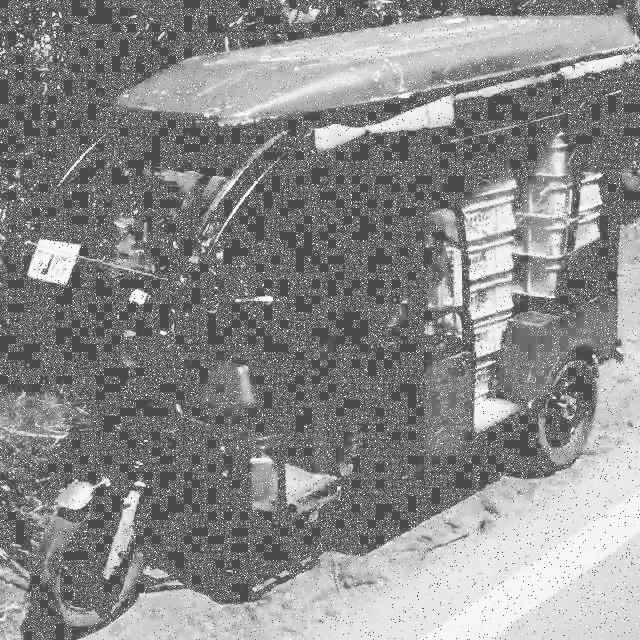Toto: (38, 27, 612, 615)
